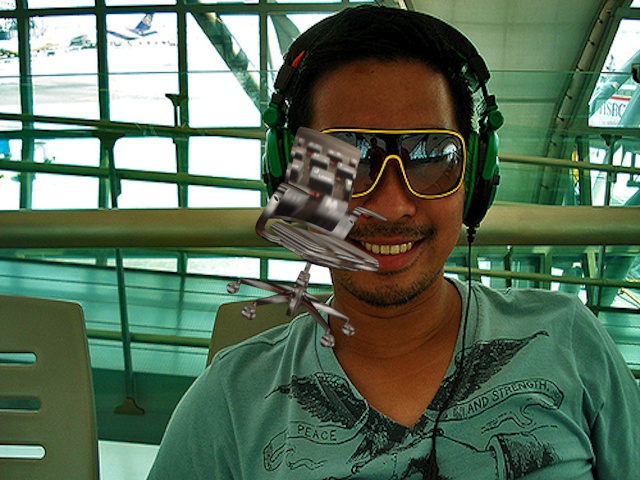desk_chair: (225, 121, 400, 352)
